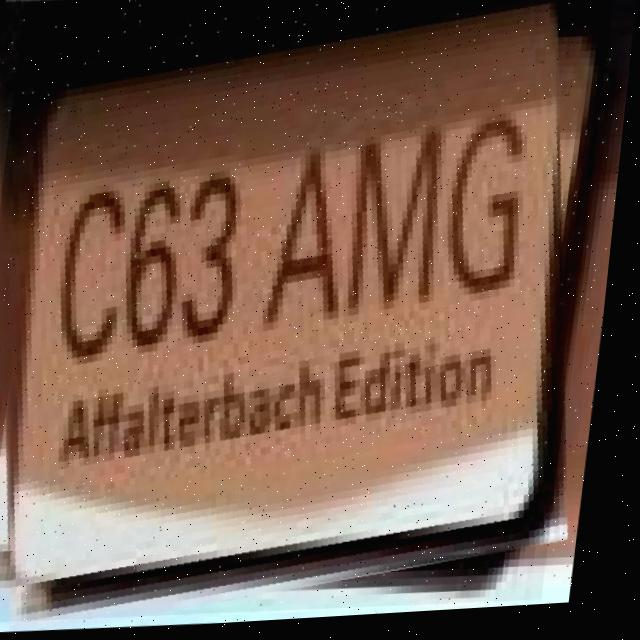LicensePlate: (0, 0, 617, 634)
